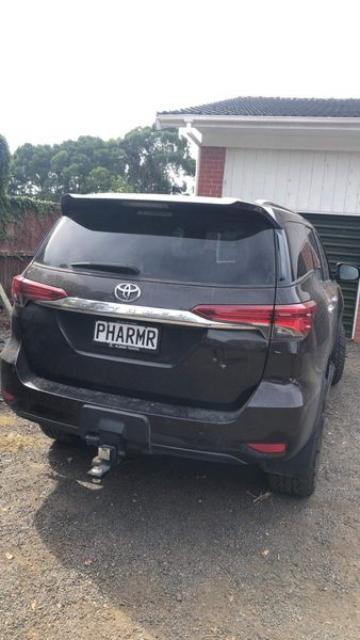Rego: (92, 318, 161, 355)
